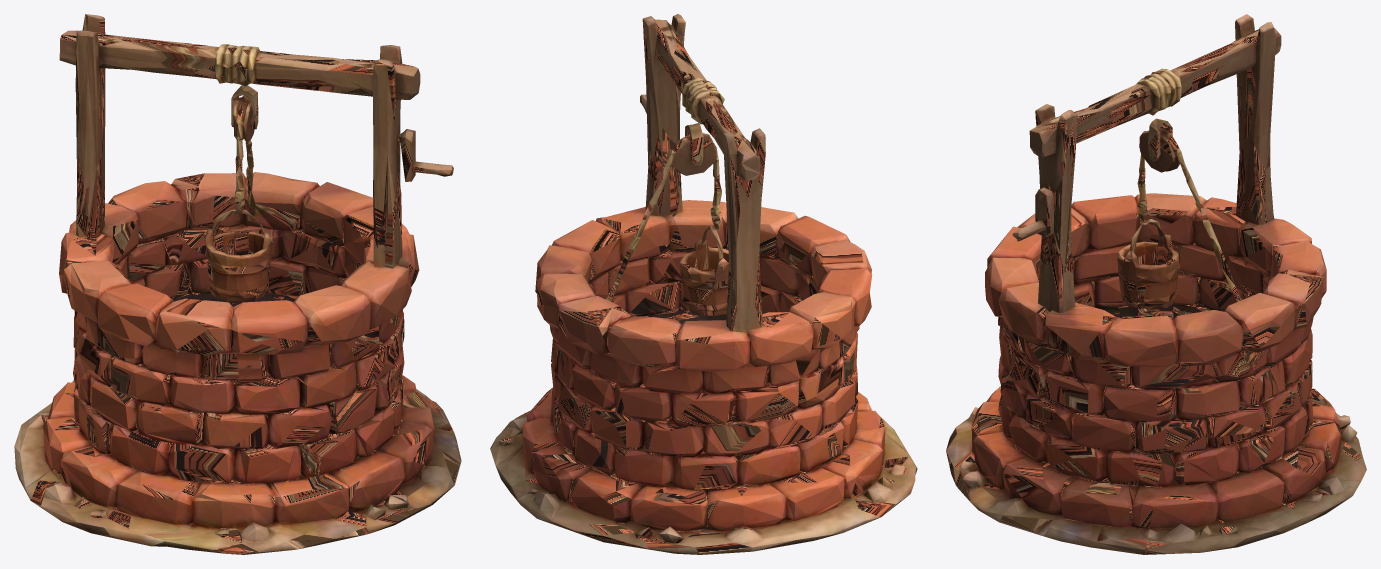
File: gieng-lang-xa.810d7be3.glb
3 renders of one model, left to right at view 1: azimuth 30°, elevation 25°; view 2: azimuth 150°, elevation 25°; view 3: azimuth 270°, elevation 25°, orthographic. The views are drawn at different scales.
Parts seen in each view (by area): view 1: tripo_node_fb805553-52f2-4185-b9ef-6fc1e2ca0178; view 2: tripo_node_fb805553-52f2-4185-b9ef-6fc1e2ca0178; view 3: tripo_node_fb805553-52f2-4185-b9ef-6fc1e2ca0178.
Boxes of the visible parts, x1,y1,x2,y2 form: tripo_node_fb805553-52f2-4185-b9ef-6fc1e2ca0178: [14, 14, 461, 554]; tripo_node_fb805553-52f2-4185-b9ef-6fc1e2ca0178: [490, 14, 917, 554]; tripo_node_fb805553-52f2-4185-b9ef-6fc1e2ca0178: [946, 14, 1366, 554].
Bounding box in the file's own units: 0.9752 × 0.9773 × 0.9297.
1 material, 1 textured.
